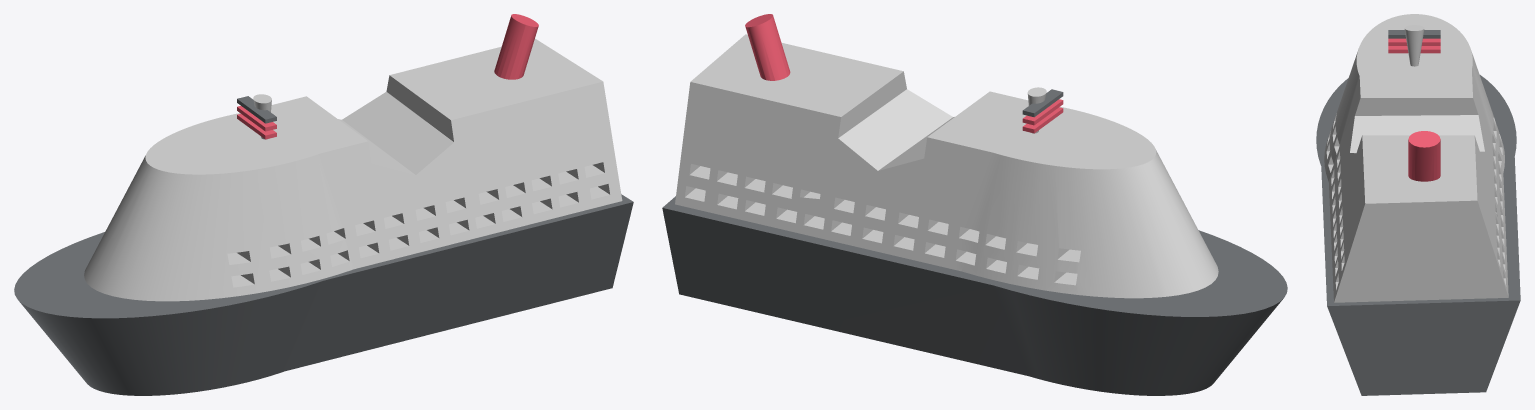
Rendered from cruise_ship_-_toofan.glb.
3 views of the same model, side by side, from view 1: azimuth 30°, elevation 25°; view 2: azimuth 150°, elevation 25°; view 3: azimuth 270°, elevation 25° (orthographic). The views are drawn at different scales.
Visible parts, largest first — view 1: Object_3, Object_4, Object_2; view 2: Object_3, Object_4, Object_2; view 3: Object_3, Object_4, Object_2.
Part boxes in pixels (left/top/right/bottom): Object_3: left=84, top=38, right=622, bottom=301; Object_4: left=14, top=96, right=633, bottom=395; Object_2: left=237, top=14, right=538, bottom=139; Object_3: left=675, top=34, right=1218, bottom=298; Object_4: left=662, top=89, right=1287, bottom=395; Object_2: left=745, top=14, right=1063, bottom=133; Object_3: left=1324, top=14, right=1508, bottom=302; Object_4: left=1316, top=30, right=1520, bottom=395; Object_2: left=1388, top=38, right=1440, bottom=181.
Bounding box in the file's own units: 148 × 65.14 × 51.
